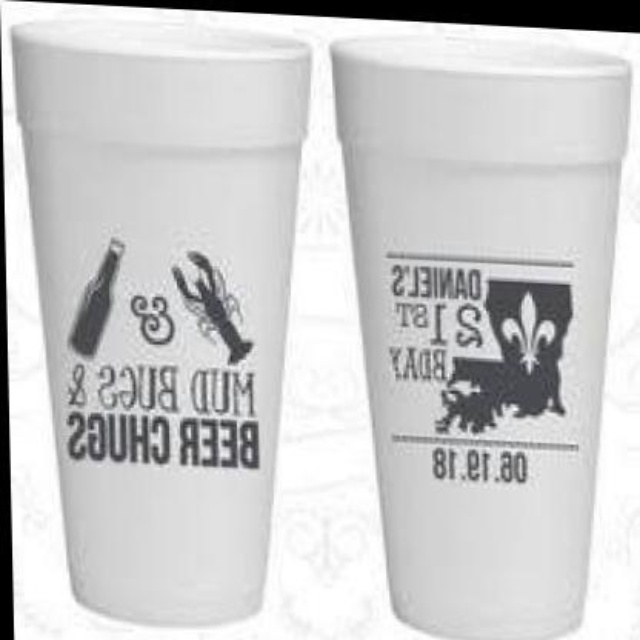trash: (12, 18, 308, 623), (332, 37, 628, 637)
